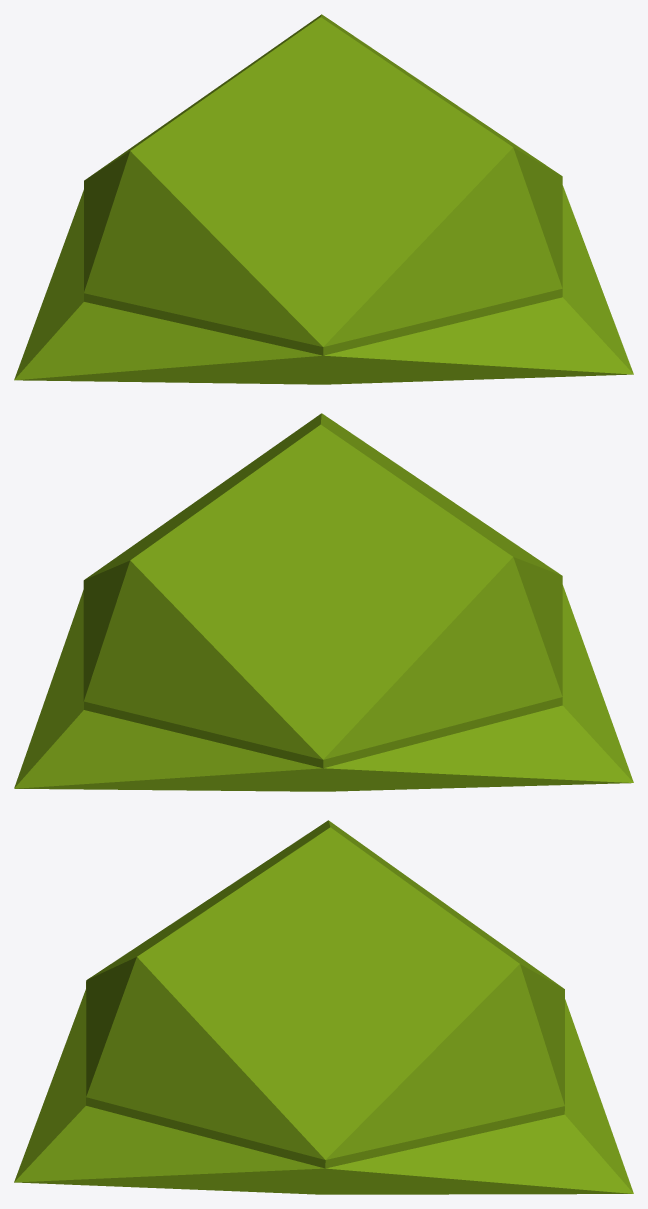
File: tree-summer-leaves-023.glb
3 views of the same model, one above another, from view 1: azimuth 30°, elevation 25°; view 2: azimuth 150°, elevation 25°; view 3: azimuth 270°, elevation 25° (orthographic).
Parts seen in each view (by area): view 1: dobj_250; view 2: dobj_250; view 3: dobj_250.
Part boxes in pixels (left/top/right/bottom): dobj_250: left=14, top=14, right=633, bottom=384; dobj_250: left=14, top=413, right=633, bottom=791; dobj_250: left=14, top=820, right=633, bottom=1194.
Size of the model in its own units: 0.8999 by 0.482 by 0.8793.
